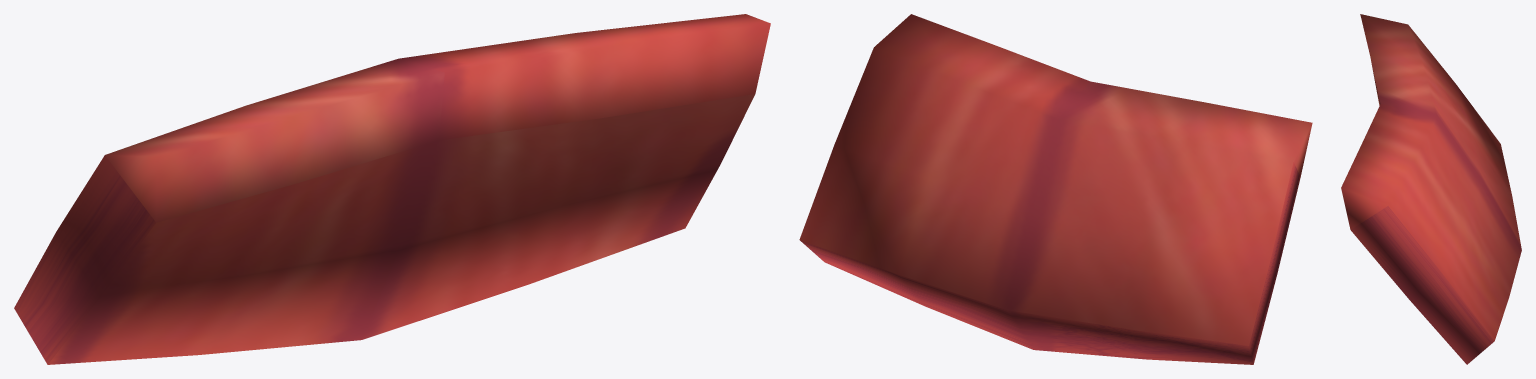
The model's file is Esternal.fbx.
The picture shows the model from 3 angles, left to right: view 1: azimuth 30°, elevation 25°; view 2: azimuth 150°, elevation 25°; view 3: azimuth 270°, elevation 25°; orthographic projection. The views are drawn at different scales.
Visible parts, largest first — view 1: Esternal; view 2: Esternal; view 3: Esternal.
Boxes of the visible parts, x1,y1,x2,y2 form: Esternal: (14, 14, 770, 364); Esternal: (799, 14, 1312, 364); Esternal: (1341, 14, 1521, 364).
Bounding box in the file's own units: 18.64 × 8.96 × 7.45.
